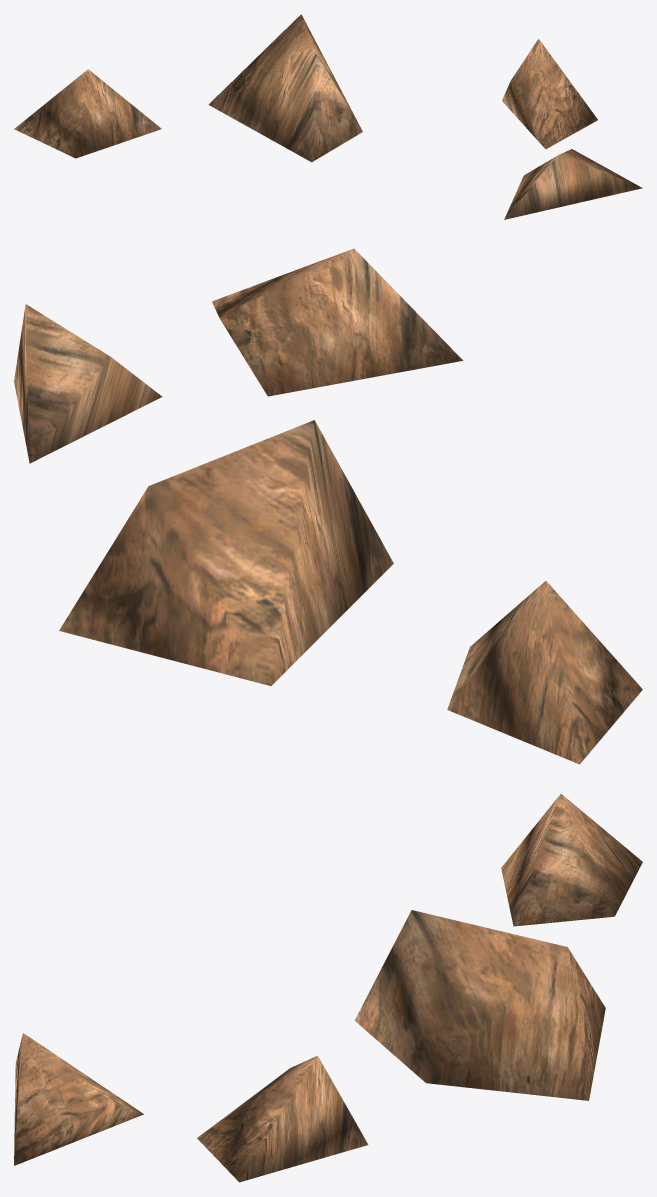
The model's file is rock_tatt_bensmesa_pebbles_a2_l3.fbx.
3 renders of one model, top to bottom at view 1: azimuth 30°, elevation 25°; view 2: azimuth 150°, elevation 25°; view 3: azimuth 270°, elevation 25°, orthographic. The views are drawn at different scales.
Visible parts, largest first — view 1: mesh_node; view 2: mesh_node; view 3: mesh_node.
Boxes of the visible parts, x1,y1,x2,y2 form: mesh_node: (14,14,642,219); mesh_node: (14,248,642,764); mesh_node: (14,794,642,1182).
Bounding box in the file's own units: 0.8331 × 0.1649 × 0.6897.
